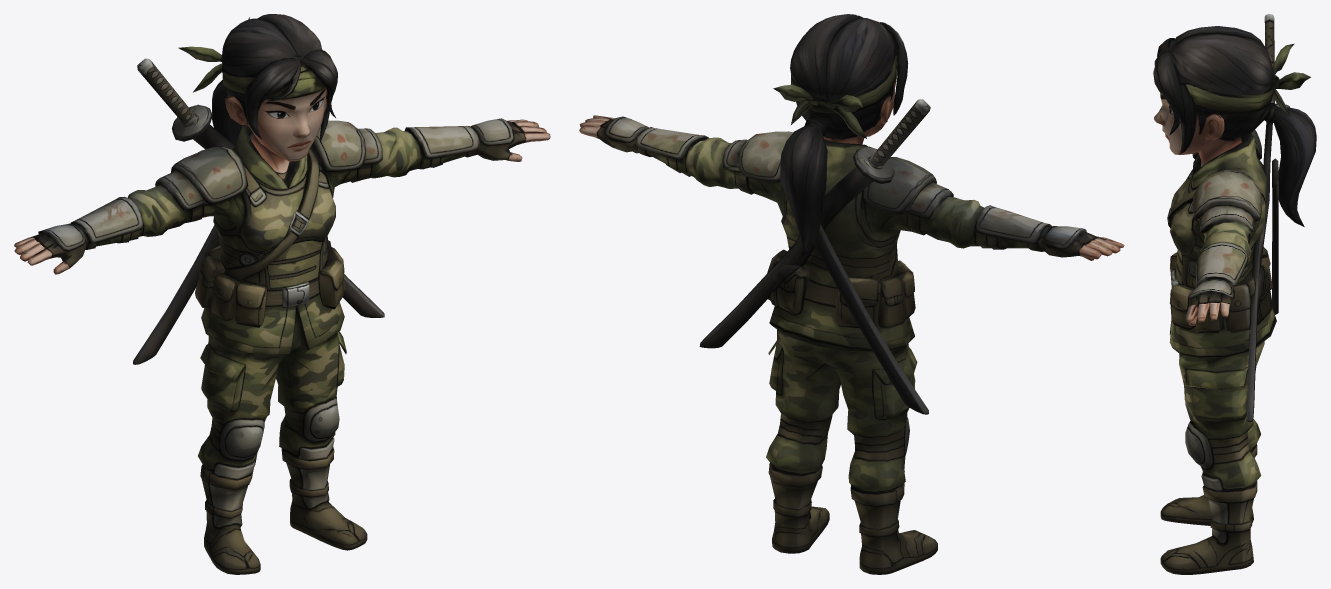
Rendered from tripo_convert_de517b45-a823-4b91-83d9-f881357e2222.fbx.
3 renders of one model, left to right at view 1: azimuth 30°, elevation 25°; view 2: azimuth 150°, elevation 25°; view 3: azimuth 270°, elevation 25°, orthographic. The views are drawn at different scales.
Parts seen in each view (by area): view 1: tripo_node_de517b45; view 2: tripo_node_de517b45; view 3: tripo_node_de517b45.
Part boxes in pixels (box(x1,y1,x2,y2)): tripo_node_de517b45: box(14, 14, 550, 574); tripo_node_de517b45: box(579, 14, 1124, 574); tripo_node_de517b45: box(1153, 14, 1316, 574).
Bounding box in the file's own units: 99.95 × 27.49 × 94.38.
Materials: 1 (1 with a texture image).
